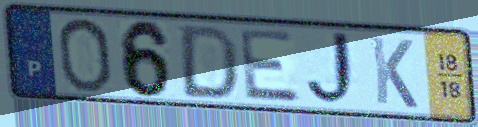6: (118, 17, 177, 100)
D: (178, 23, 241, 102)
E: (236, 27, 305, 105)
J: (304, 30, 363, 109)
K: (368, 34, 421, 112)
O: (55, 15, 115, 95)
